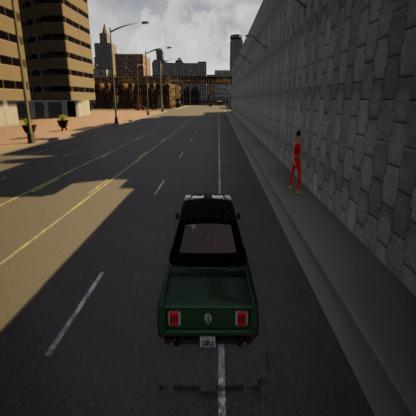Cars: (152, 180, 264, 361)
Pedestrian: (286, 127, 306, 198)
